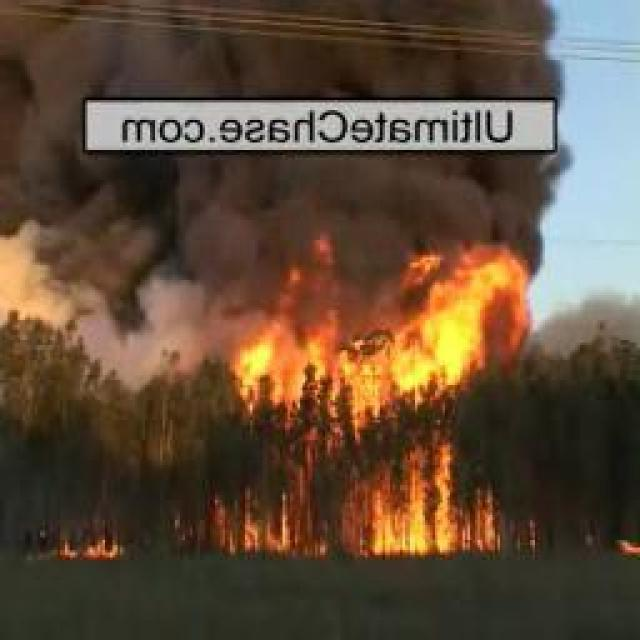Fire: (184, 236, 526, 558), (48, 530, 121, 566)
